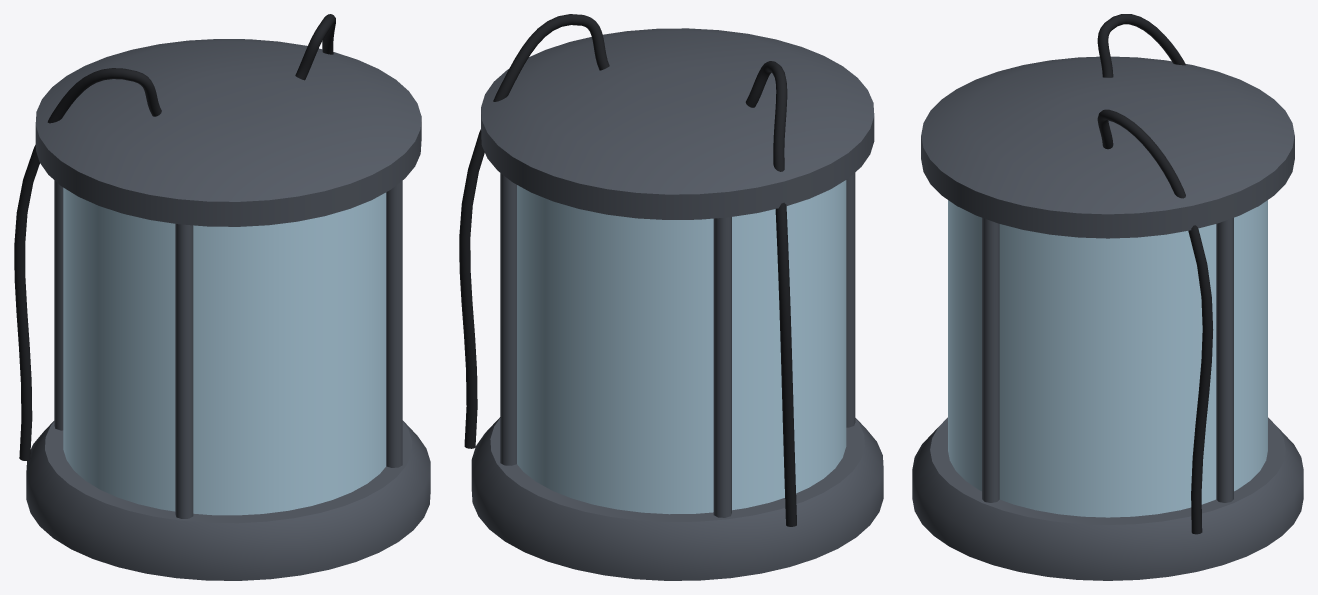
Rendered from PotatoReactor.fbx.
3 views of the same model, side by side, from view 1: azimuth 30°, elevation 25°; view 2: azimuth 150°, elevation 25°; view 3: azimuth 270°, elevation 25° (orthographic). The views are drawn at different scales.
Parts seen in each view (by area): view 1: Body__MetalDark, Body__Glass, Body__Black; view 2: Body__MetalDark, Body__Glass, Body__Black; view 3: Body__MetalDark, Body__Glass, Body__Black.
Boxes of the visible parts, bbox=[...] form: Body__MetalDark: bbox=[26, 39, 430, 580]; Body__Glass: bbox=[63, 187, 386, 515]; Body__Black: bbox=[14, 14, 335, 460]; Body__MetalDark: bbox=[471, 28, 883, 580]; Body__Glass: bbox=[517, 180, 846, 514]; Body__Black: bbox=[459, 14, 796, 526]; Body__MetalDark: bbox=[912, 56, 1303, 580]; Body__Glass: bbox=[948, 200, 1267, 517]; Body__Black: bbox=[1097, 14, 1213, 534].
Size of the model in its own units: 4.4 by 5.88 by 4.4.
